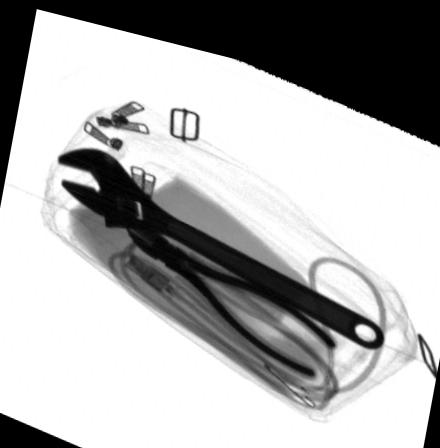Pliers: (123, 211, 340, 362)
Wrench: (56, 143, 387, 332)
